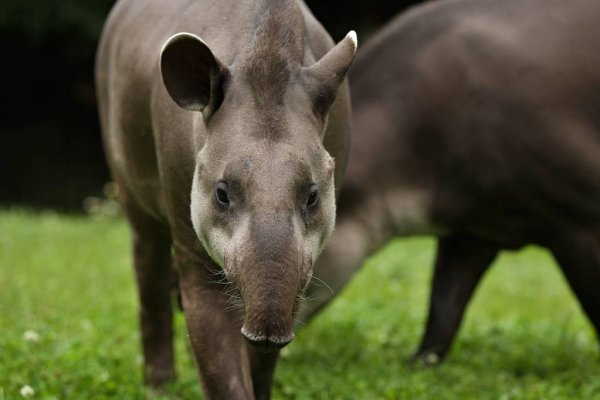Anta: (68, 4, 372, 386)
